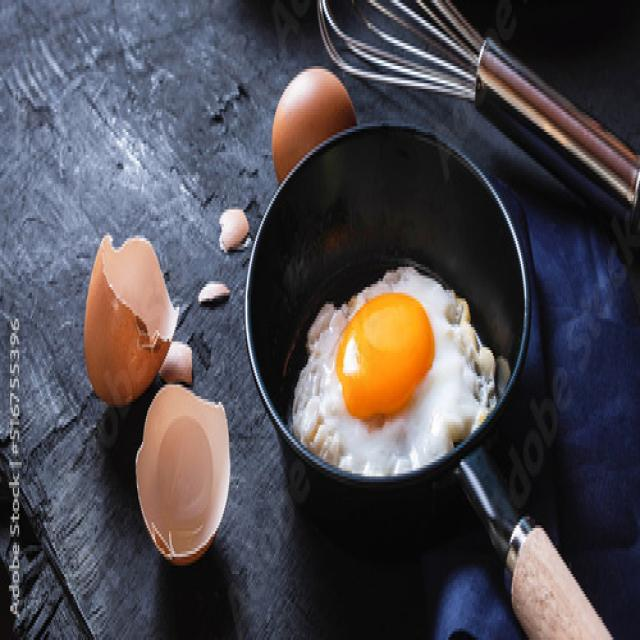Egg: (291, 266, 496, 475)
